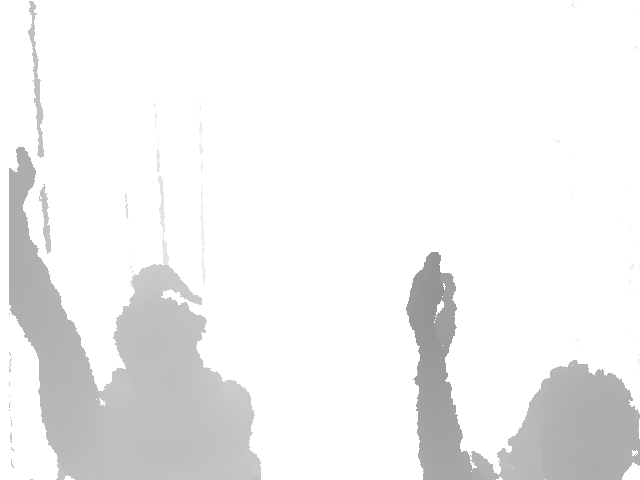hand: (406, 240, 458, 358), (4, 143, 39, 248)
head: (501, 359, 640, 480), (111, 265, 207, 379)
person: (8, 136, 264, 480), (400, 232, 640, 479)
